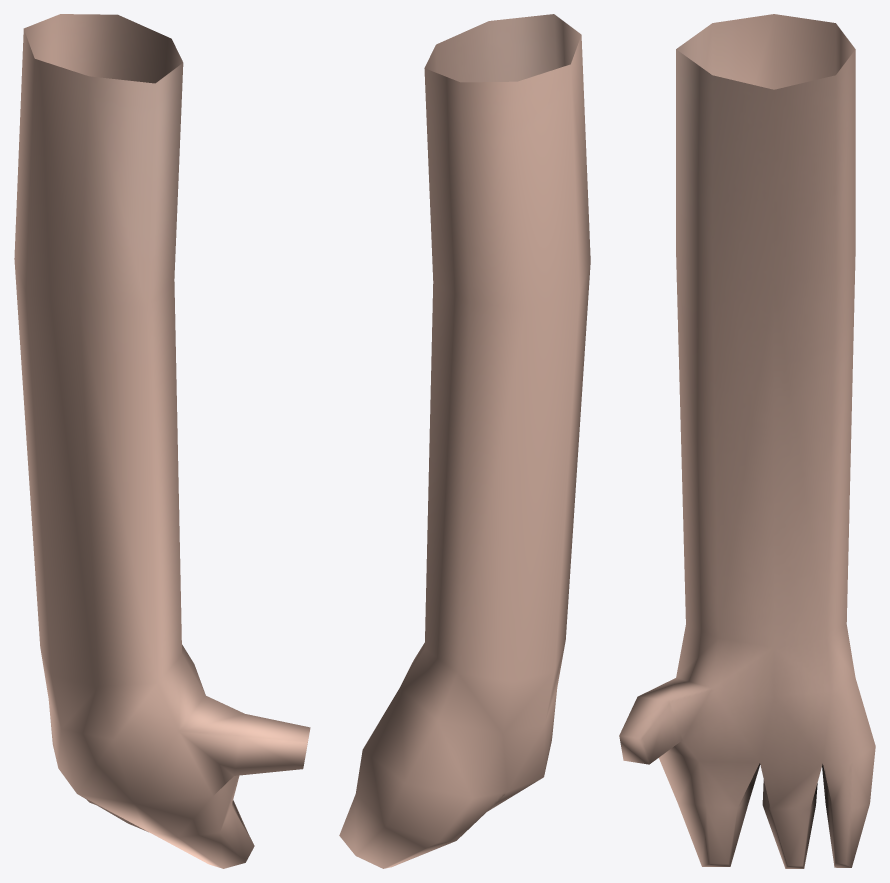
Rendered from brazoinfder.obj.
The picture shows the model from 3 angles, left to right: view 1: azimuth 30°, elevation 25°; view 2: azimuth 150°, elevation 25°; view 3: azimuth 270°, elevation 25°; orthographic projection. The views are drawn at different scales.
Parts seen in each view (by area): view 1: brazoinfder_Material.001; view 2: brazoinfder_Material.001; view 3: brazoinfder_Material.001.
Part boxes in pixels (bbox=[...]): brazoinfder_Material.001: bbox=[14, 14, 310, 868]; brazoinfder_Material.001: bbox=[339, 14, 590, 868]; brazoinfder_Material.001: bbox=[619, 14, 875, 868].
Size of the model in its own units: 4.23 by 15.67 by 4.65.
